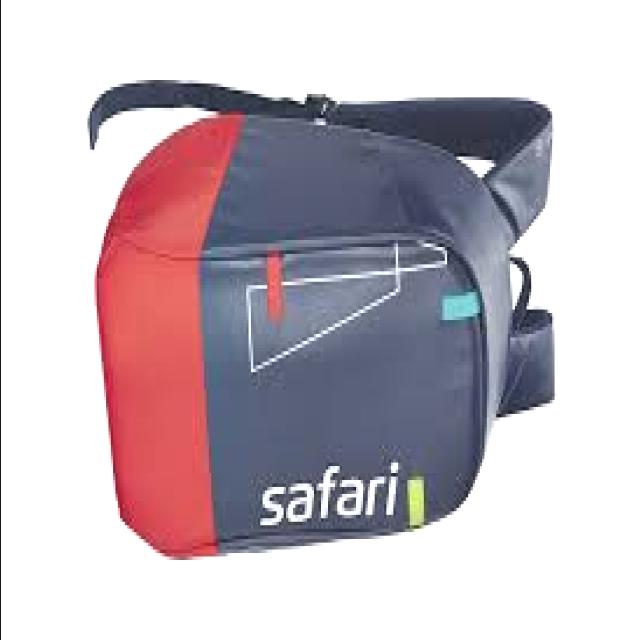backpack: (90, 78, 557, 562)
